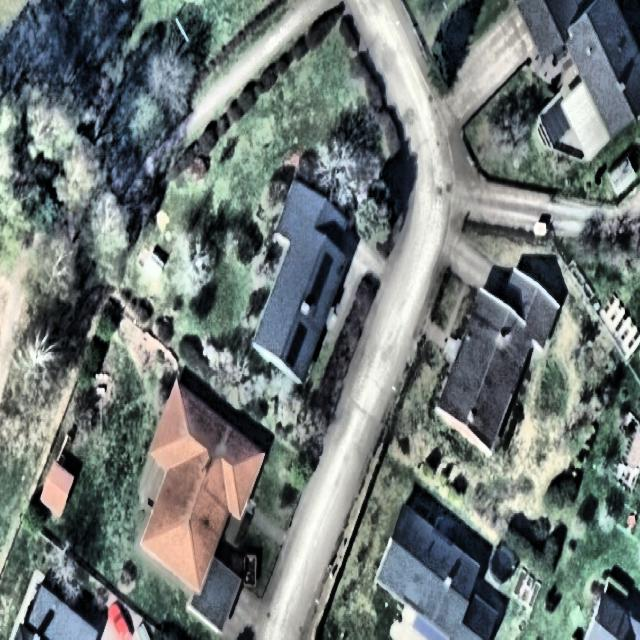roof_pv: (308, 250, 336, 310), (282, 319, 310, 370)
